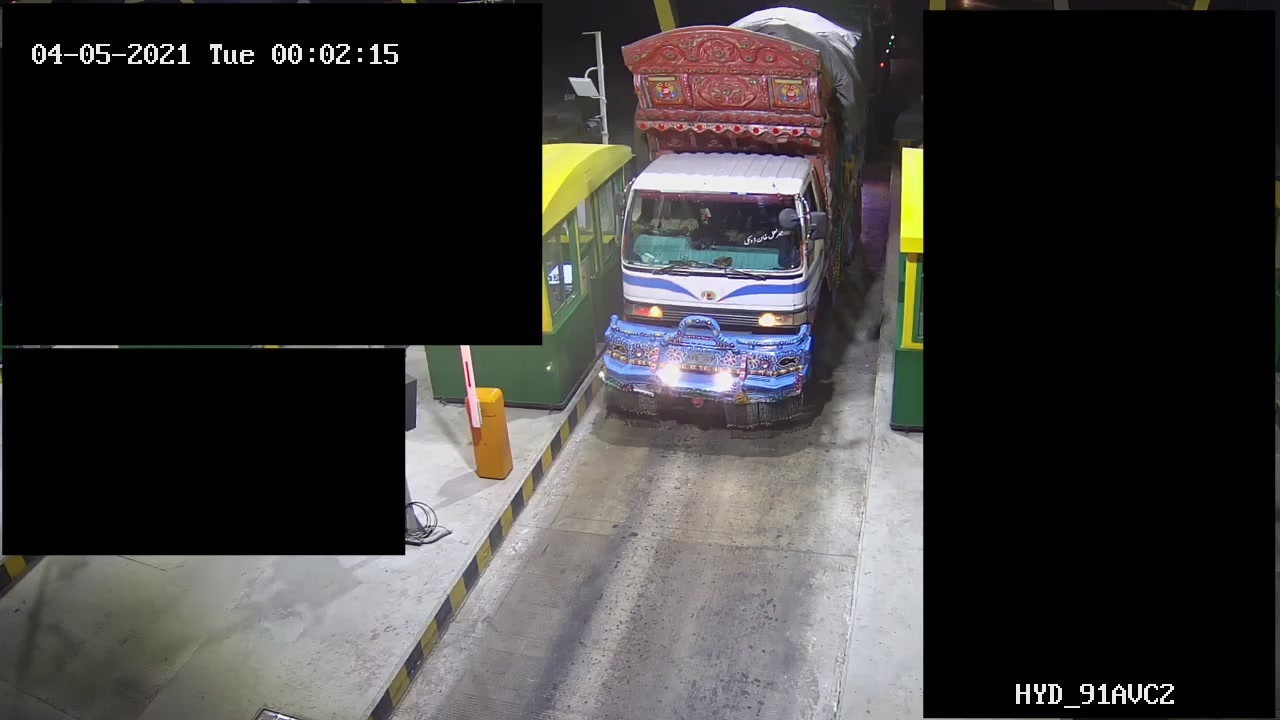F5: (598, 1, 872, 442)
